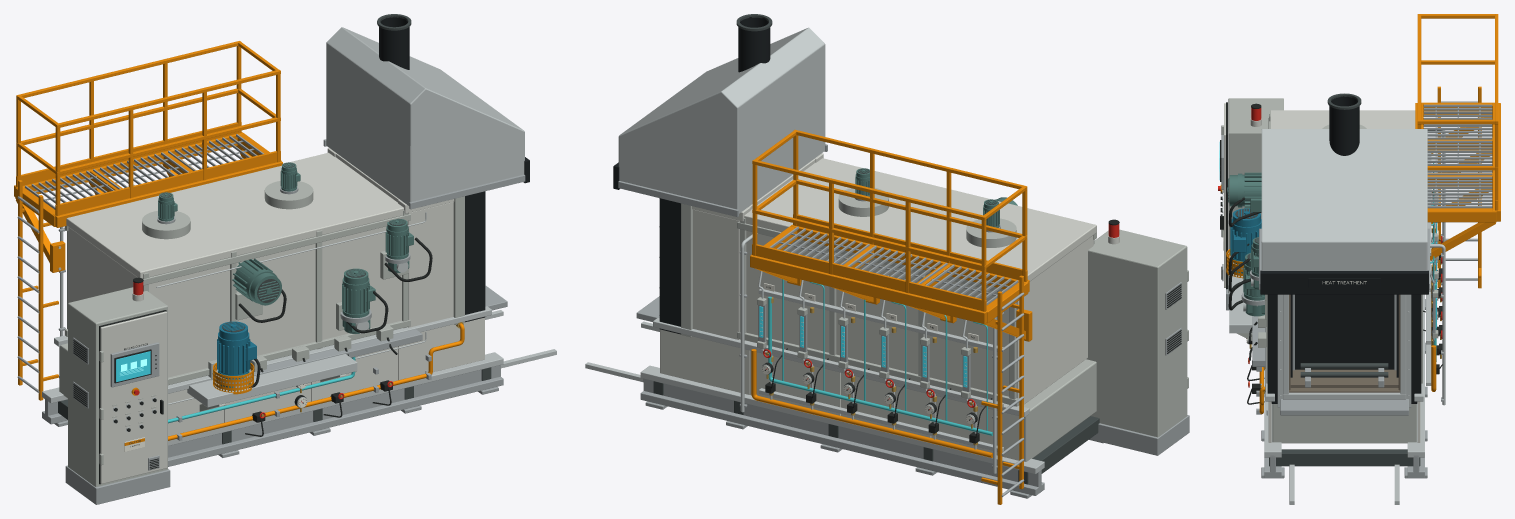
File: photo_multipurpose_furnace_v6_pipefix.glb
The picture shows the model from 3 angles, left to right: view 1: azimuth 30°, elevation 25°; view 2: azimuth 150°, elevation 25°; view 3: azimuth 270°, elevation 25°; orthographic projection. The views are drawn at different scales.
Visible parts, largest first — view 1: shell_rear_enamel, exhaust_hood_stainless, maintenance_platform_safety_yellow, control_cabinet_enamel, shell_lower_enamel, chassis_brushed_metal, control_cabinet_enamel_edge, shell_front_enamel, drive_housings_motor_teal, shell_rear_enamel_edge, maintenance_platform_brushed_metal, control_cabinet_brushed_metal (+21 smaller); view 2: shell_rear_enamel, exhaust_hood_stainless, maintenance_platform_safety_yellow, control_cabinet_enamel_edge, shell_lower_enamel, chassis_brushed_metal, gas_instrument_bank_stainless, shell_front_enamel, maintenance_platform_brushed_metal, shell_rear_enamel_edge, shell_lower_enamel_edge, chassis_stainless (+16 smaller); view 3: exhaust_hood_stainless, maintenance_platform_safety_yellow, door_front_lift_heat_black, maintenance_platform_brushed_metal, exhaust_hood_heat_black, shell_lower_enamel_edge, mouth_frame_stainless, control_cabinet_enamel_edge, chassis_dark_structure, mouth_frame_heat_black, drive_housings_motor_teal, mouth_frame_brushed_metal (+21 smaller).
Part boxes in pixels (x1,y1,x2,y2): shell_rear_enamel: (66, 152, 403, 377); exhaust_hood_stainless: (326, 27, 524, 205); maintenance_platform_safety_yellow: (14, 41, 282, 400); control_cabinet_enamel: (100, 292, 167, 483); shell_lower_enamel: (168, 317, 484, 436); chassis_brushed_metal: (42, 365, 503, 466); control_cabinet_enamel_edge: (68, 287, 167, 486); shell_front_enamel: (327, 148, 454, 327); drive_housings_motor_teal: (158, 162, 413, 333); shell_rear_enamel_edge: (64, 210, 410, 385); maintenance_platform_brushed_metal: (17, 134, 263, 392); control_cabinet_brushed_metal: (65, 337, 170, 504); shell_rear_enamel: (744, 158, 1096, 405); exhaust_hood_stainless: (618, 27, 825, 213); maintenance_platform_safety_yellow: (750, 129, 1032, 504); control_cabinet_enamel_edge: (1086, 229, 1188, 437); shell_lower_enamel: (660, 329, 1019, 460); chassis_brushed_metal: (640, 379, 1103, 498); gas_instrument_bank_stainless: (740, 233, 1003, 473); shell_front_enamel: (692, 153, 823, 339); maintenance_platform_brushed_metal: (769, 226, 1024, 497); shell_rear_enamel_edge: (737, 218, 1096, 406); shell_lower_enamel_edge: (1024, 359, 1096, 461); chassis_stainless: (585, 321, 1044, 474); exhaust_hood_stainless: (1261, 129, 1427, 270); maintenance_platform_safety_yellow: (1415, 14, 1500, 288); door_front_lift_heat_black: (1295, 294, 1394, 369); maintenance_platform_brushed_metal: (1423, 101, 1492, 280); exhaust_hood_heat_black: (1260, 96, 1428, 294); shell_lower_enamel_edge: (1272, 404, 1416, 443); mouth_frame_stainless: (1277, 294, 1411, 407); control_cabinet_enamel_edge: (1221, 98, 1283, 293); chassis_dark_structure: (1269, 449, 1420, 466); mouth_frame_heat_black: (1267, 294, 1421, 403); drive_housings_motor_teal: (1227, 172, 1264, 316); mouth_frame_brushed_metal: (1280, 399, 1408, 415).
Size of the model in its own units: 7.04 by 4.82 by 3.55.
